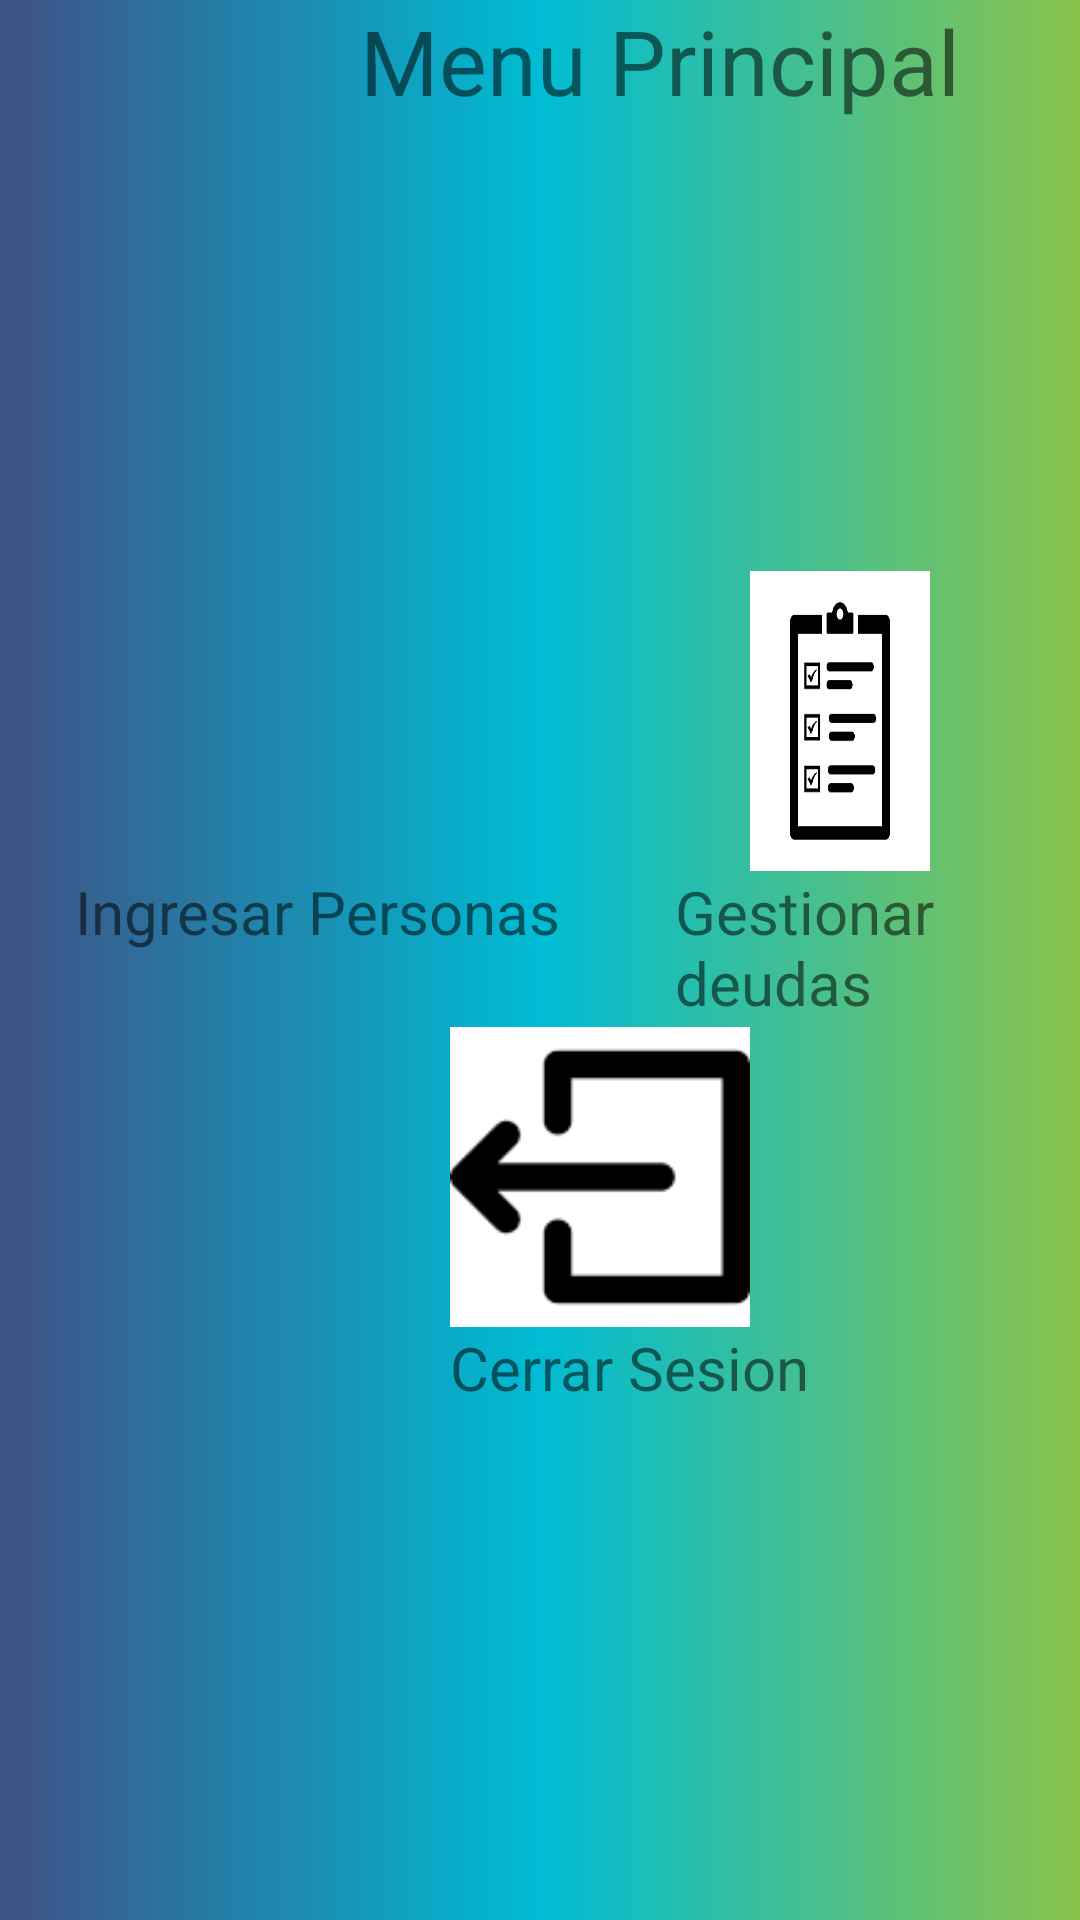

Icons on this 1080px x 1920px Android screen, each with the point to tap as (x,y):
list: (840,721)
out: (600,1177)
